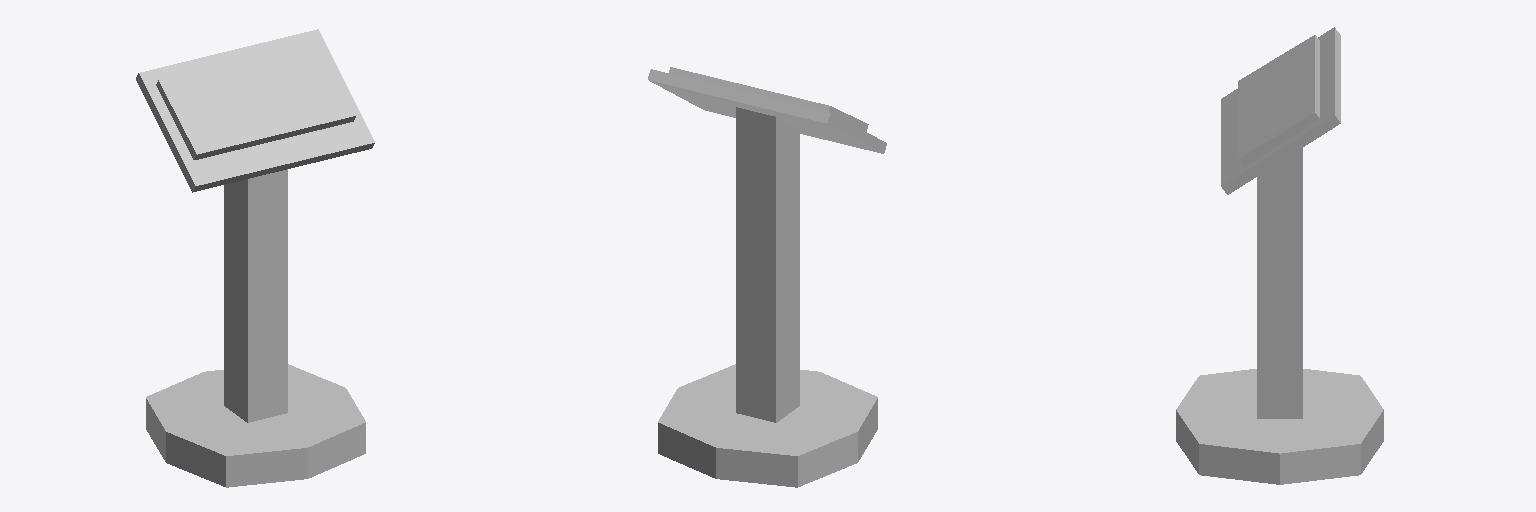
File: podium.obj
The picture shows the model from 3 angles: view 1: azimuth 30°, elevation 25°; view 2: azimuth 150°, elevation 25°; view 3: azimuth 270°, elevation 25°; orthographic projection.
Parts seen in each view (by area): view 1: Circle_Circle.001, Cube_Cube.002; view 2: Circle_Circle.001, Cube_Cube.002; view 3: Circle_Circle.001, Cube_Cube.002.
Part boxes in pixels (x1,y1,x2,y2): Circle_Circle.001: (136,29,374,487); Cube_Cube.002: (156,41,356,159); Circle_Circle.001: (648,69,886,487); Cube_Cube.002: (669,67,868,131); Circle_Circle.001: (1176,27,1383,484); Cube_Cube.002: (1238,35,1319,166).
Bounding box in the file's own units: 18 × 35.38 × 18.